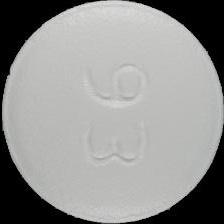35356-032: (0, 0, 224, 224)
